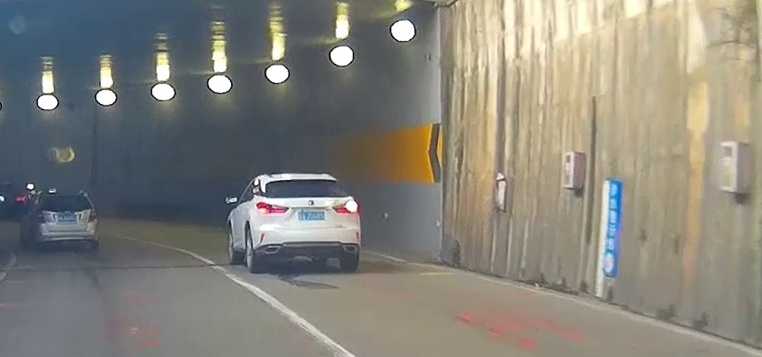L_light: (255, 202, 289, 214), (34, 211, 44, 223)
R_light: (332, 202, 358, 214), (88, 210, 96, 222)
T_light: (300, 180, 312, 182), (60, 195, 69, 196)
day-no: (33, 192, 99, 251)
day-right: (253, 175, 360, 272)
